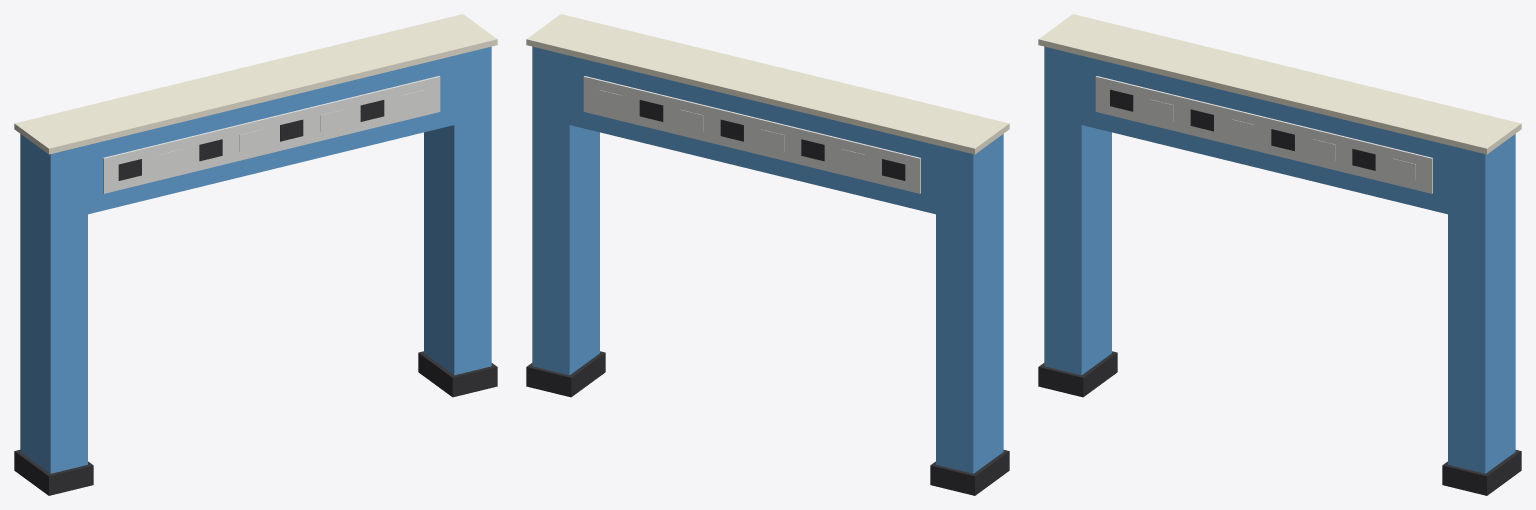
File: race_arch.glb
The picture shows the model from 3 angles, left to right: view 1: azimuth 30°, elevation 25°; view 2: azimuth 150°, elevation 25°; view 3: azimuth 330°, elevation 25°; orthographic projection.
Visible parts, largest first — view 1: race_arch; view 2: race_arch; view 3: race_arch.
Boxes of the visible parts, <box> form: race_arch: <box>14,14,497,495</box>; race_arch: <box>526,14,1009,495</box>; race_arch: <box>1038,14,1521,495</box>.
Bounding box in the file's own units: 12 × 8.88 × 1.6.
